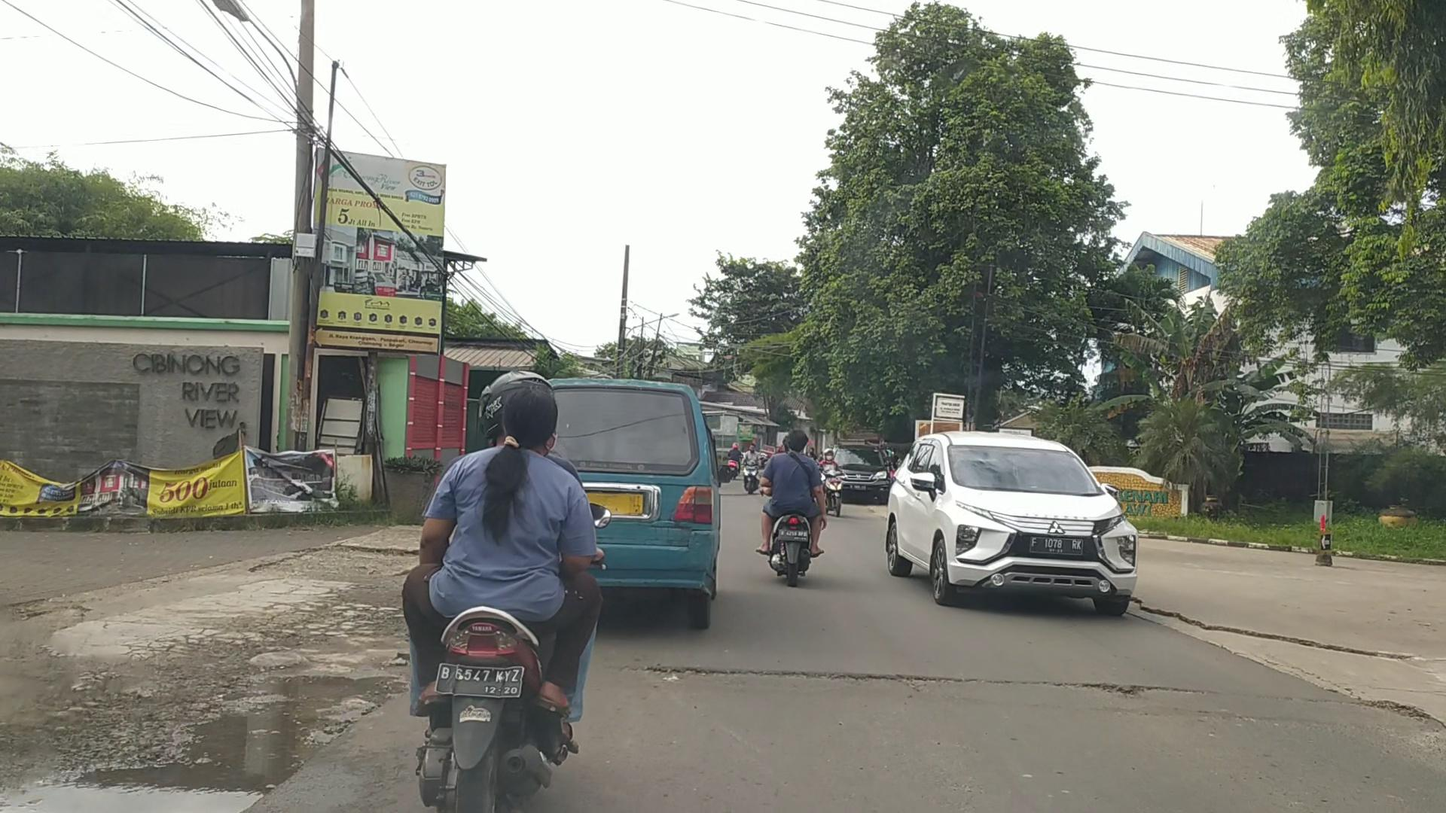pothole: (1362, 697, 1432, 723)
